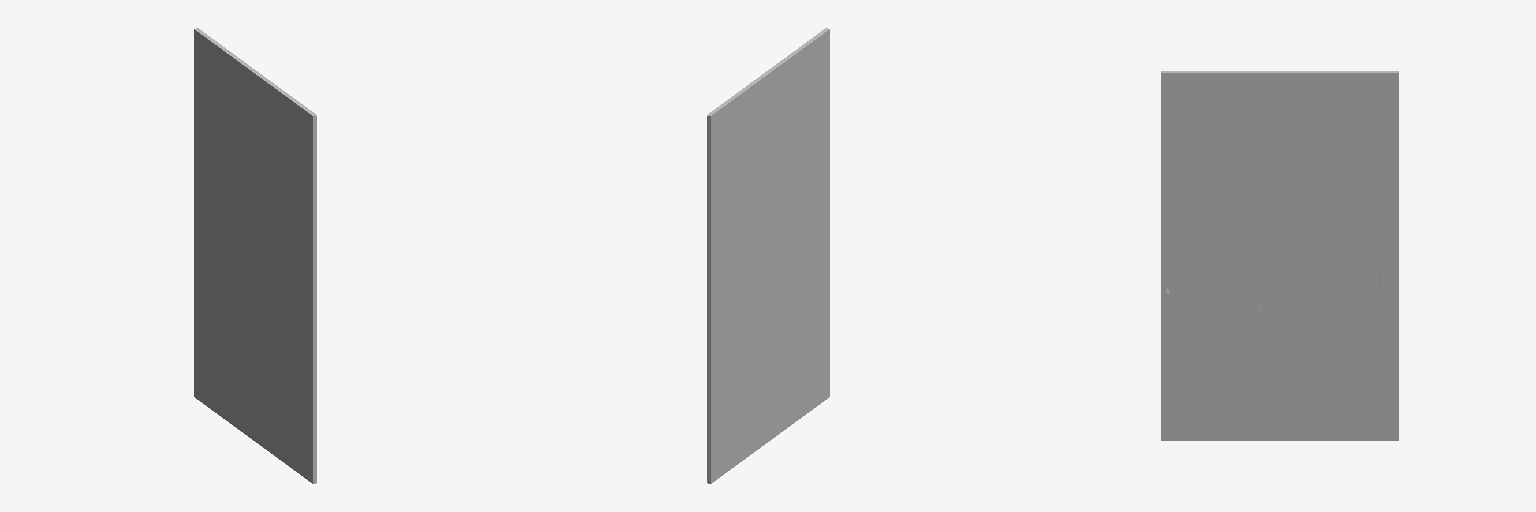
The picture shows the model from 3 angles: view 1: azimuth 30°, elevation 25°; view 2: azimuth 150°, elevation 25°; view 3: azimuth 270°, elevation 25°; orthographic projection.
Parts seen in each view (by area): view 1: back4_zoetrope.207; view 2: back4_zoetrope.207; view 3: back4_zoetrope.207.
Boxes of the visible parts, box(x1,y1,x2,y2) form: back4_zoetrope.207: box(194, 28, 316, 483); back4_zoetrope.207: box(707, 28, 829, 483); back4_zoetrope.207: box(1161, 71, 1398, 440).
Size of the model in its own units: 0.0128 by 0.9246 by 0.5439.